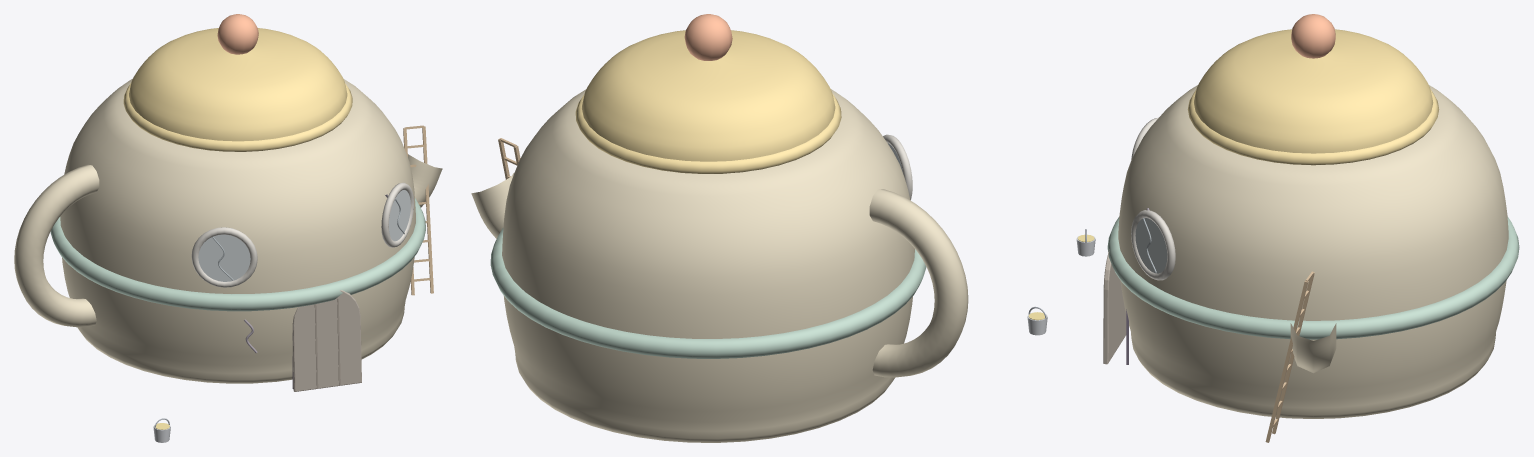
File: building_kitchen_L03.glb
3 renders of one model, left to right at view 1: azimuth 30°, elevation 25°; view 2: azimuth 150°, elevation 25°; view 3: azimuth 270°, elevation 25°, orthographic. The views are drawn at different scales.
Visible parts, largest first — view 1: Body, kitchen_L3; view 2: Body, kitchen_L3; view 3: Body, kitchen_L3.
Part boxes in pixels (x1=…): Body: x1=14, y1=14, x2=442, y2=391; kitchen_L3: x1=153, y1=125, x2=433, y2=442; Body: x1=471, y1=14, x2=968, y2=442; kitchen_L3: x1=498, y1=138, x2=1047, y2=335; Body: x1=1103, y1=14, x2=1519, y2=418; kitchen_L3: x1=1076, y1=229, x2=1314, y2=442.
Size of the model in its own units: 20.05 by 13.84 by 16.56.
